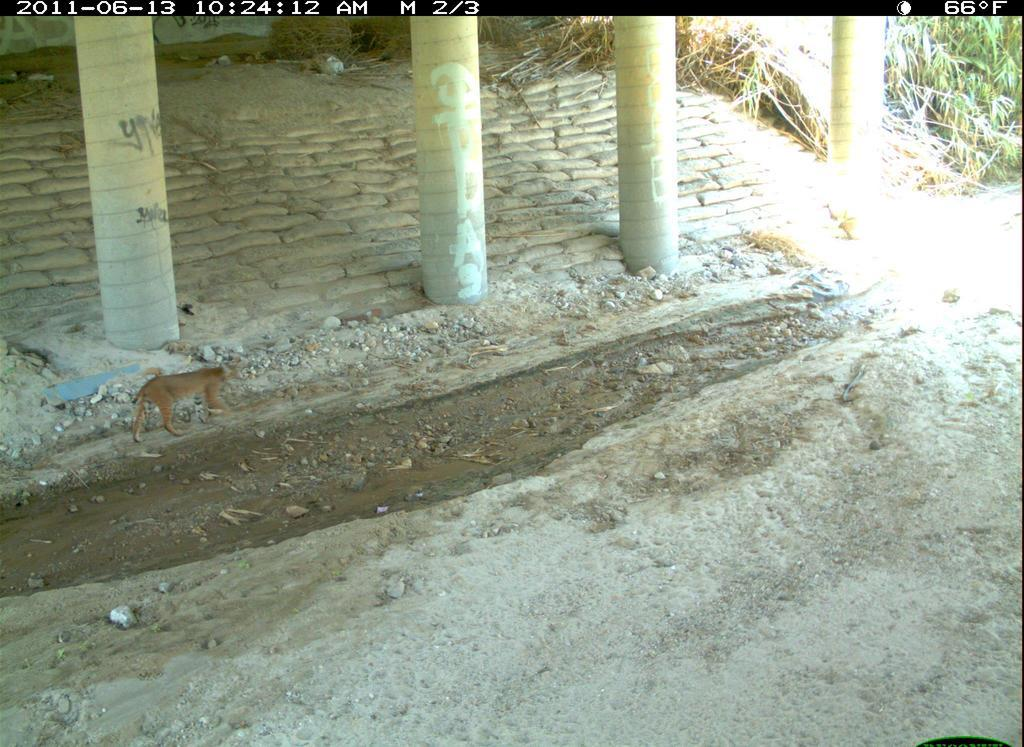bobcat: (254, 710, 503, 747)
